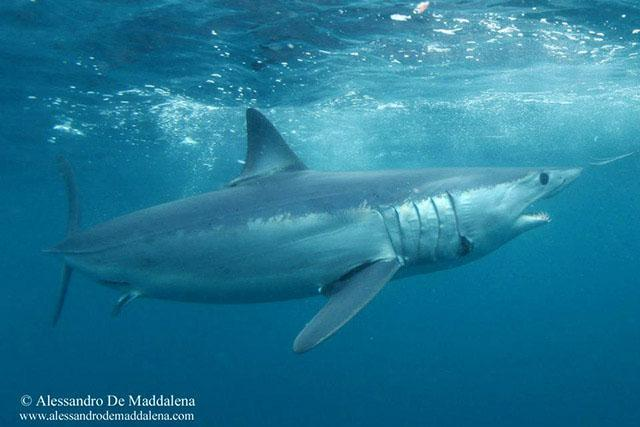Mulut: (500, 172, 590, 246)
Sirip Dada: (277, 245, 413, 369)
Sirip Ekor: (34, 145, 90, 337)
Sirip Perut: (101, 285, 157, 327)
Sirip Punggung: (218, 98, 320, 200)
